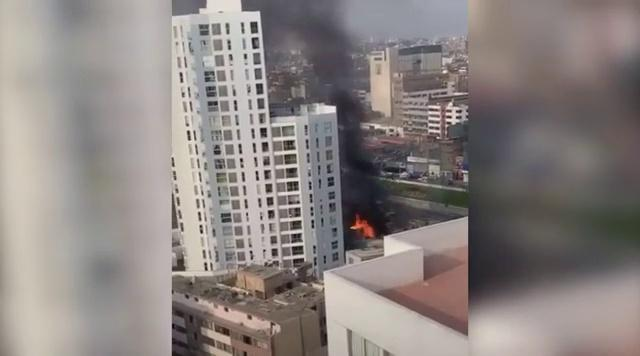fire: (355, 216, 375, 235)
smoke: (265, 2, 335, 57)
